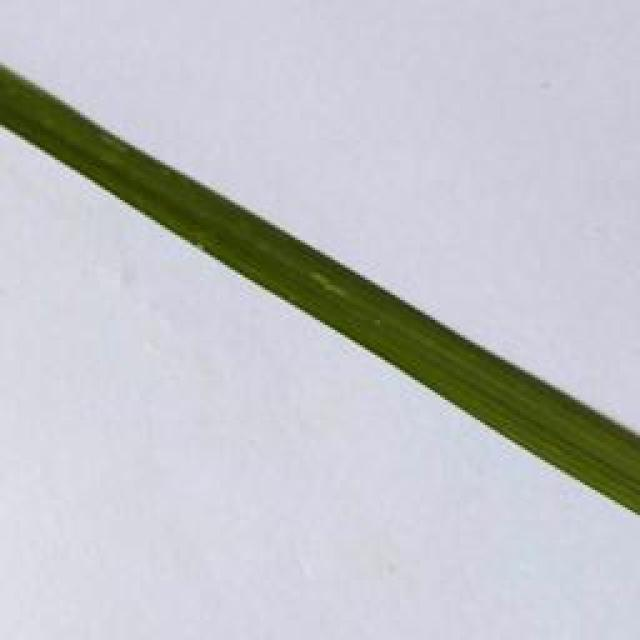Healthy-Plant: (361, 276, 640, 522), (0, 75, 279, 292)
